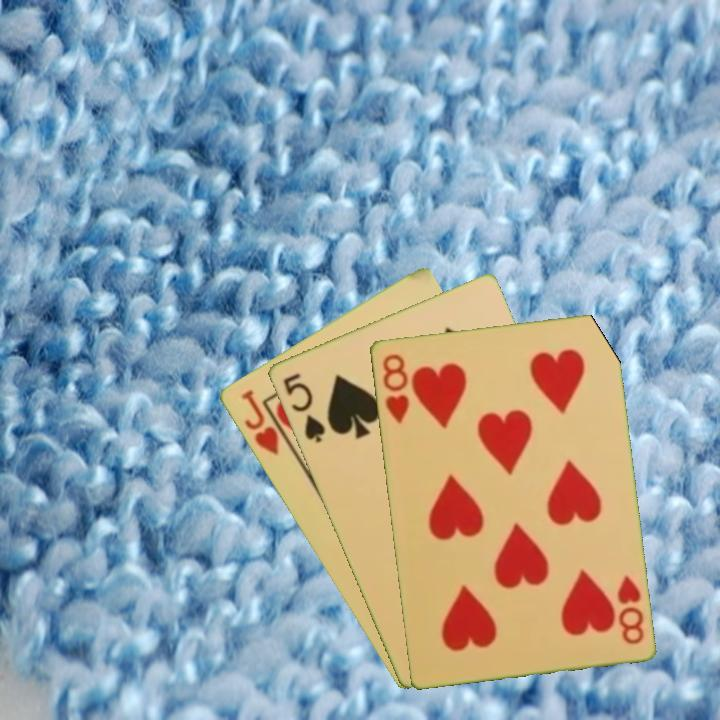5s: (279, 369, 328, 446)
8h: (378, 350, 412, 426), (613, 572, 646, 647)
Jh: (237, 385, 281, 458)
